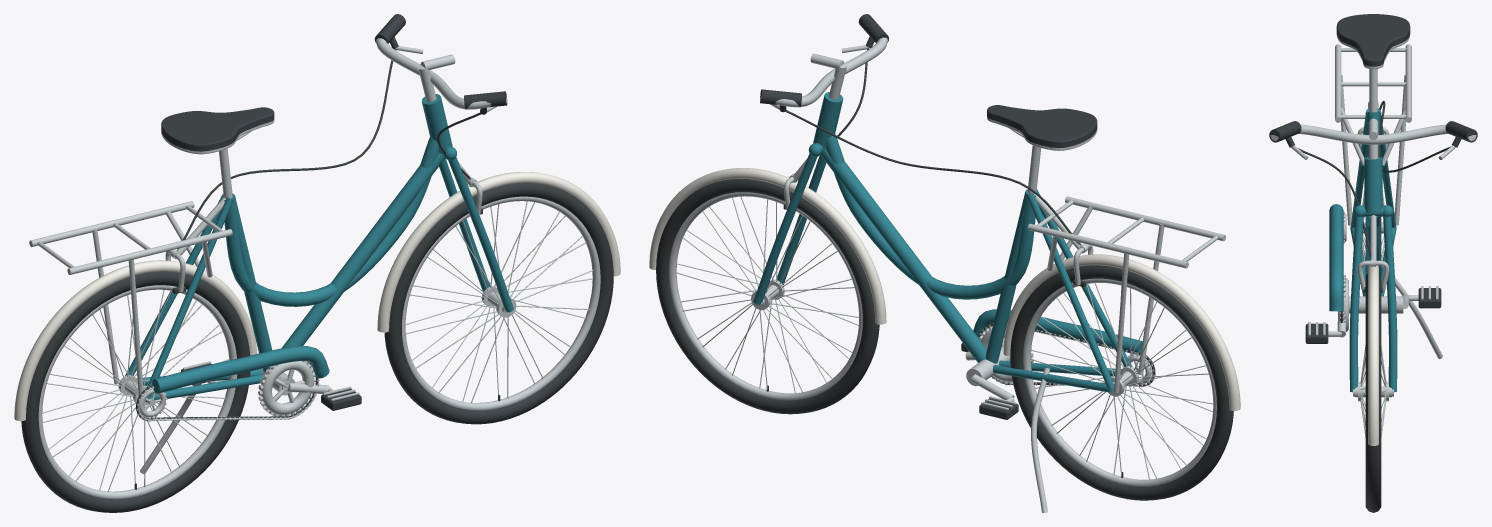
Rendered from bicycle.glb.
The picture shows the model from 3 angles, left to right: view 1: azimuth 30°, elevation 25°; view 2: azimuth 150°, elevation 25°; view 3: azimuth 270°, elevation 25°; orthographic projection. The views are drawn at different scales.
Parts seen in each view (by area): view 1: step-through-commuter-bicycle; view 2: step-through-commuter-bicycle; view 3: step-through-commuter-bicycle.
Boxes of the visible parts, <box> form: step-through-commuter-bicycle: <box>14,14,620,512</box>; step-through-commuter-bicycle: <box>649,14,1240,512</box>; step-through-commuter-bicycle: <box>1269,14,1477,512</box>.
Size of the model in its own units: 1.83 by 1.1 by 0.5916.
